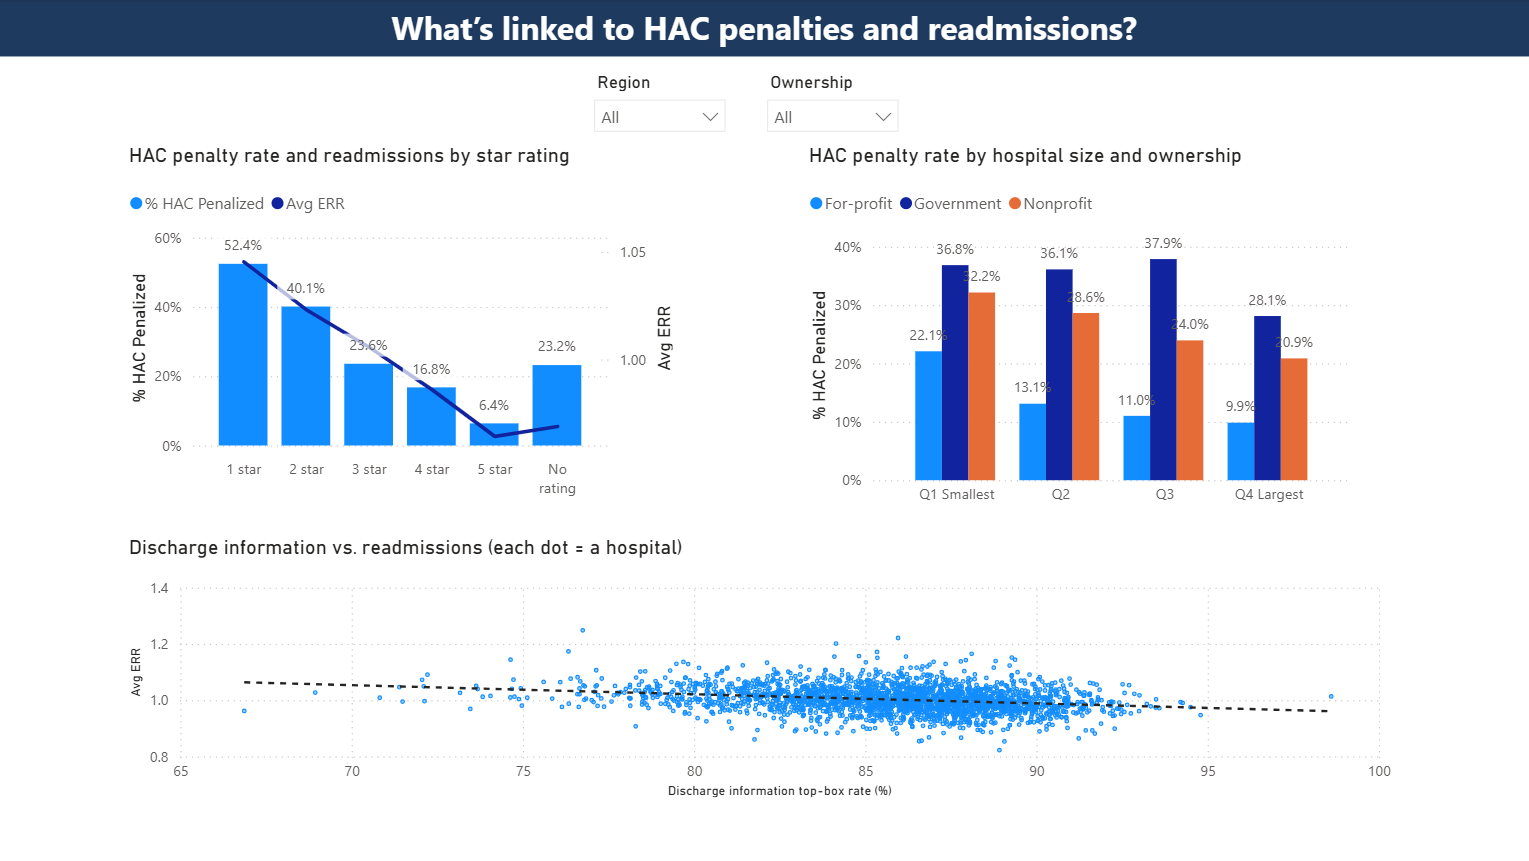

What the dashboard file says about the page in this screenshot:
{"tool":"powerbi","page":{"name":"What’s linked to penalties","canvas":[1280,720],"ordinal":1},"visuals":[{"type":"textbox","box":[0,0,1280,48],"z":0},{"type":"lineClusteredColumnComboChart","title":"HAC penalty rate and readmissions by star rating","fields":{"Category":["v_hospital_analysis.Star Label"],"Y":["v_hospital_analysis.% HAC Penalized"],"Y2":["v_hospital_analysis.Avg ERR"]},"box":[104,120,464,304],"z":1000},{"type":"clusteredColumnChart","title":"HAC penalty rate by hospital size and ownership","fields":{"Category":["v_hospital_analysis.Size Group"],"Y":["v_hospital_analysis.% HAC Penalized"],"Series":["v_hospital_analysis.ownership_group"]},"box":[672,120,464,312],"z":2000},{"type":"scatterChart","title":"Discharge information vs. readmissions (each dot = a hospital)","fields":{"Category":["v_hospital_analysis.facility_name"],"X":["v_hospital_analysis.discharge_info_rate"],"Y":["v_hospital_analysis.Avg ERR"]},"box":[104,448,1064,224],"z":3000},{"type":"slicer","fields":{"Values":["v_hospital_analysis.census_region"]},"box":[488,56,130,61],"z":4000},{"type":"slicer","fields":{"Values":["v_hospital_analysis.ownership_group"]},"box":[632,56,130,61],"z":5000}]}

Visuals, with their boxes in screenshot pixels (x1, y1, x2, y2), scaled from the page's 1280x720 canvas onto the 1529x861 screenshot:
textbox: {"x1": 0, "y1": 0, "x2": 1528, "y2": 57}
"HAC penalty rate and readmissions by star rating" lineClusteredColumnComboChart: {"x1": 124, "y1": 144, "x2": 678, "y2": 507}
"HAC penalty rate by hospital size and ownership" clusteredColumnChart: {"x1": 803, "y1": 144, "x2": 1357, "y2": 517}
"Discharge information vs. readmissions (each dot = a hospital)" scatterChart: {"x1": 124, "y1": 536, "x2": 1395, "y2": 804}
slicer - v_hospital_analysis.census_region: {"x1": 583, "y1": 67, "x2": 738, "y2": 140}
slicer - v_hospital_analysis.ownership_group: {"x1": 755, "y1": 67, "x2": 910, "y2": 140}
